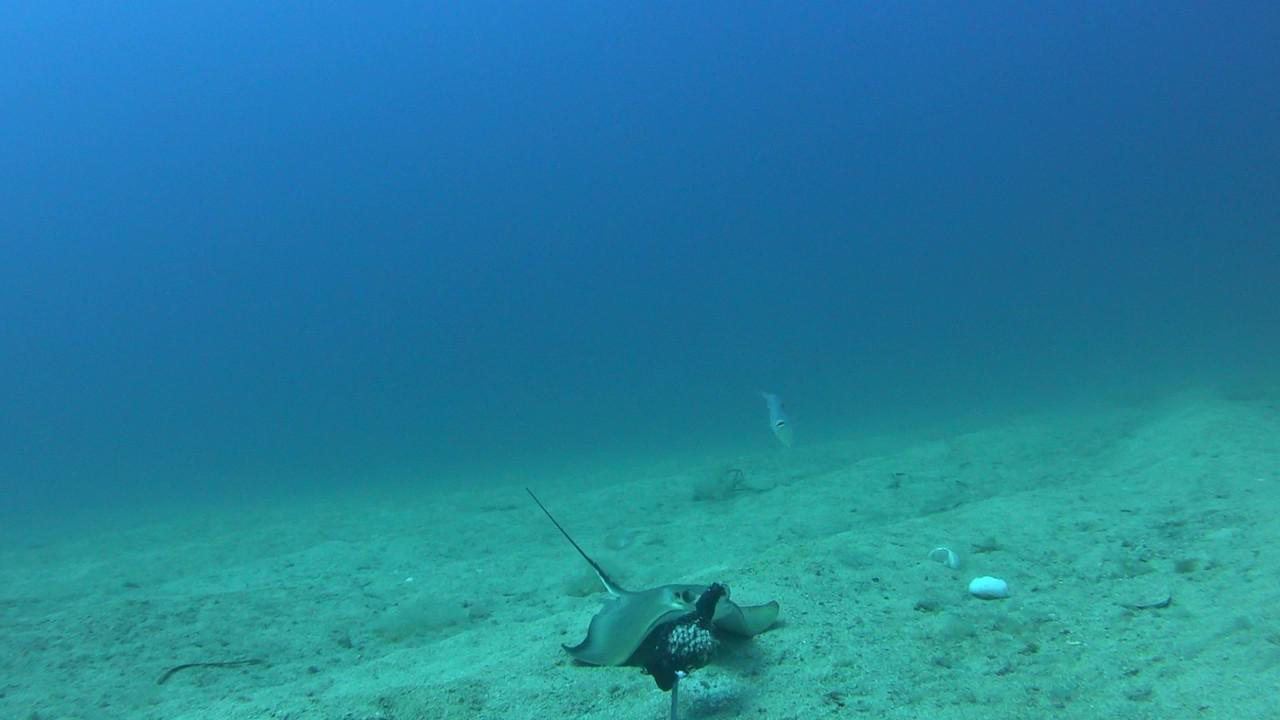balistes: (757, 388, 795, 448)
myliobatis: (510, 481, 798, 667)
